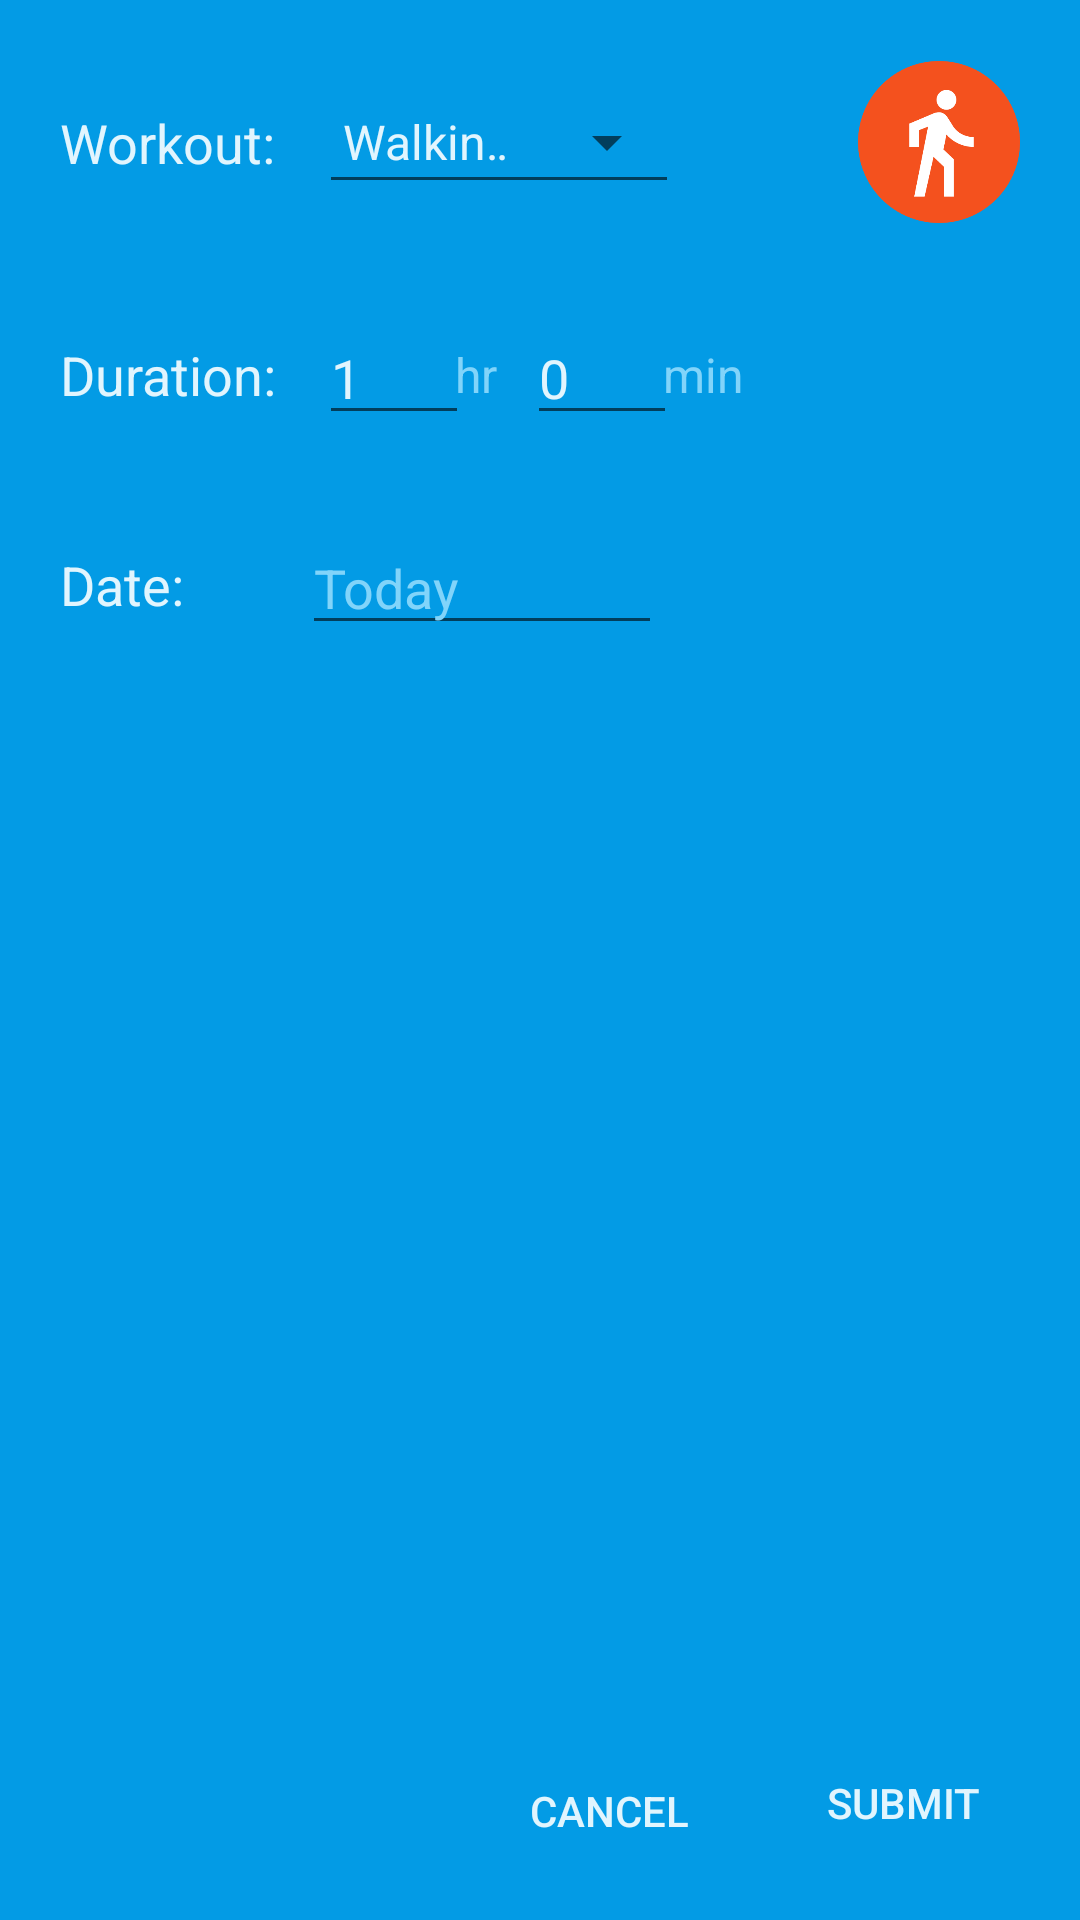

Where icons sit on this 1080w x 1920h app screen, as region(x1, y1, x2, y2):
walking: region(858, 61, 1020, 223)
